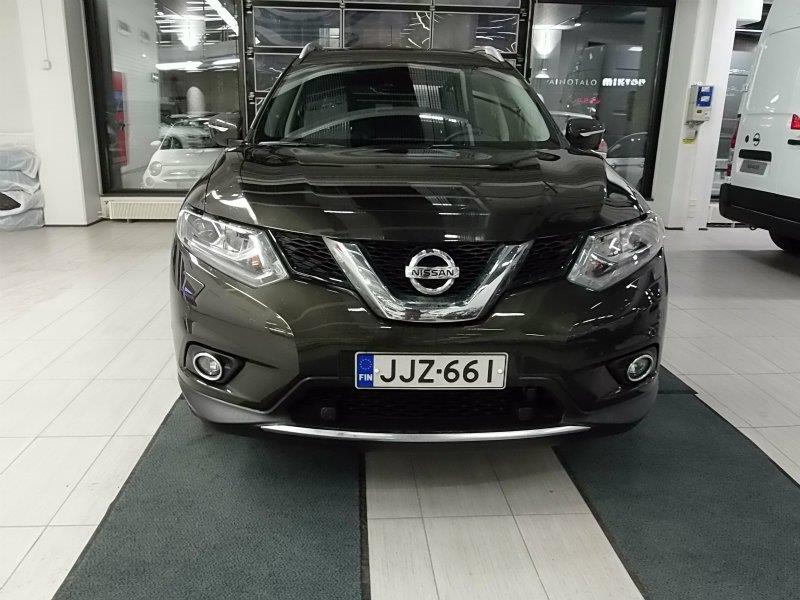license: (352, 357, 508, 396)
